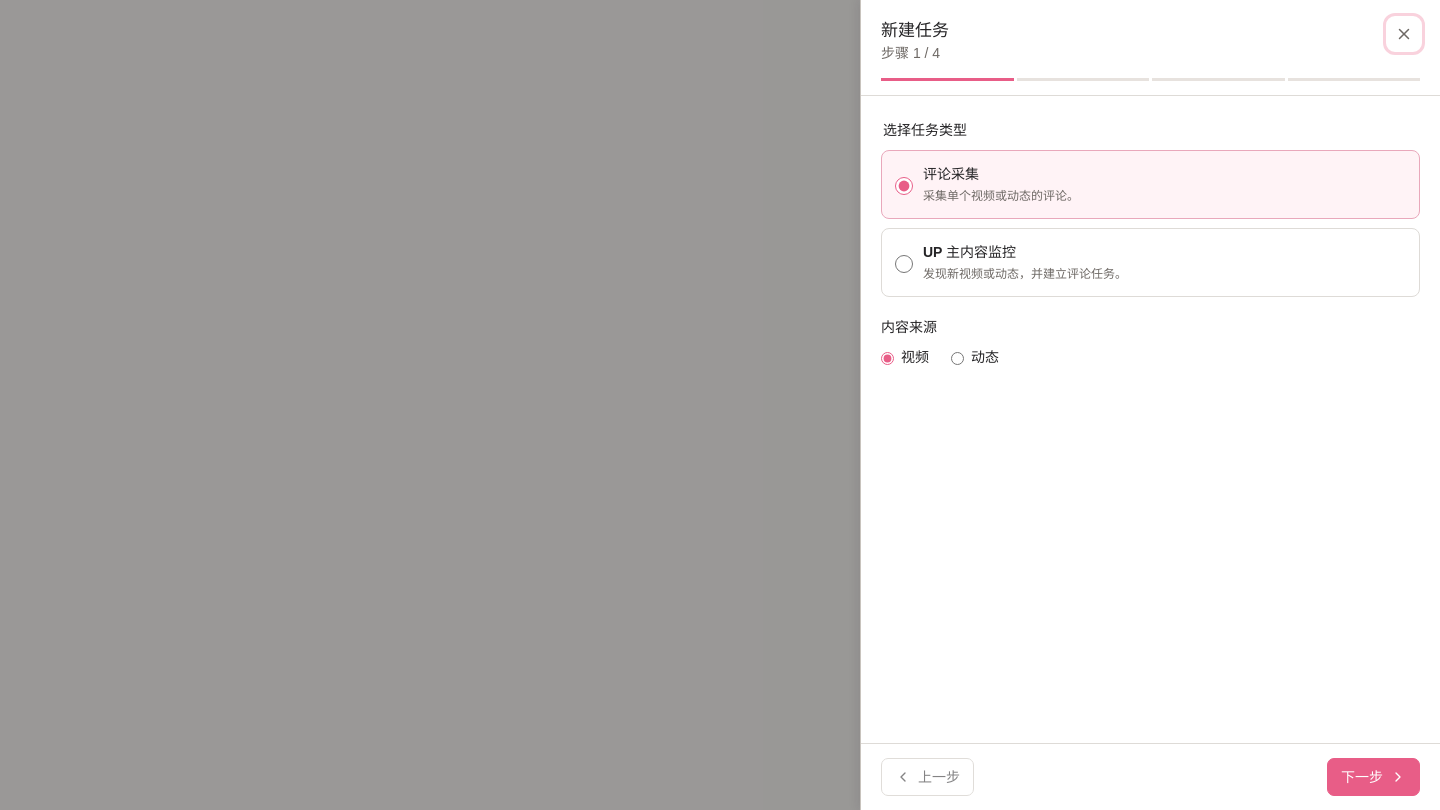
Test case: CreateTaskDrawer › 切换动态来源并保持默认持续增量采集
Click the radio button labelled "动态" at (958, 359), box [951,352,964,365]
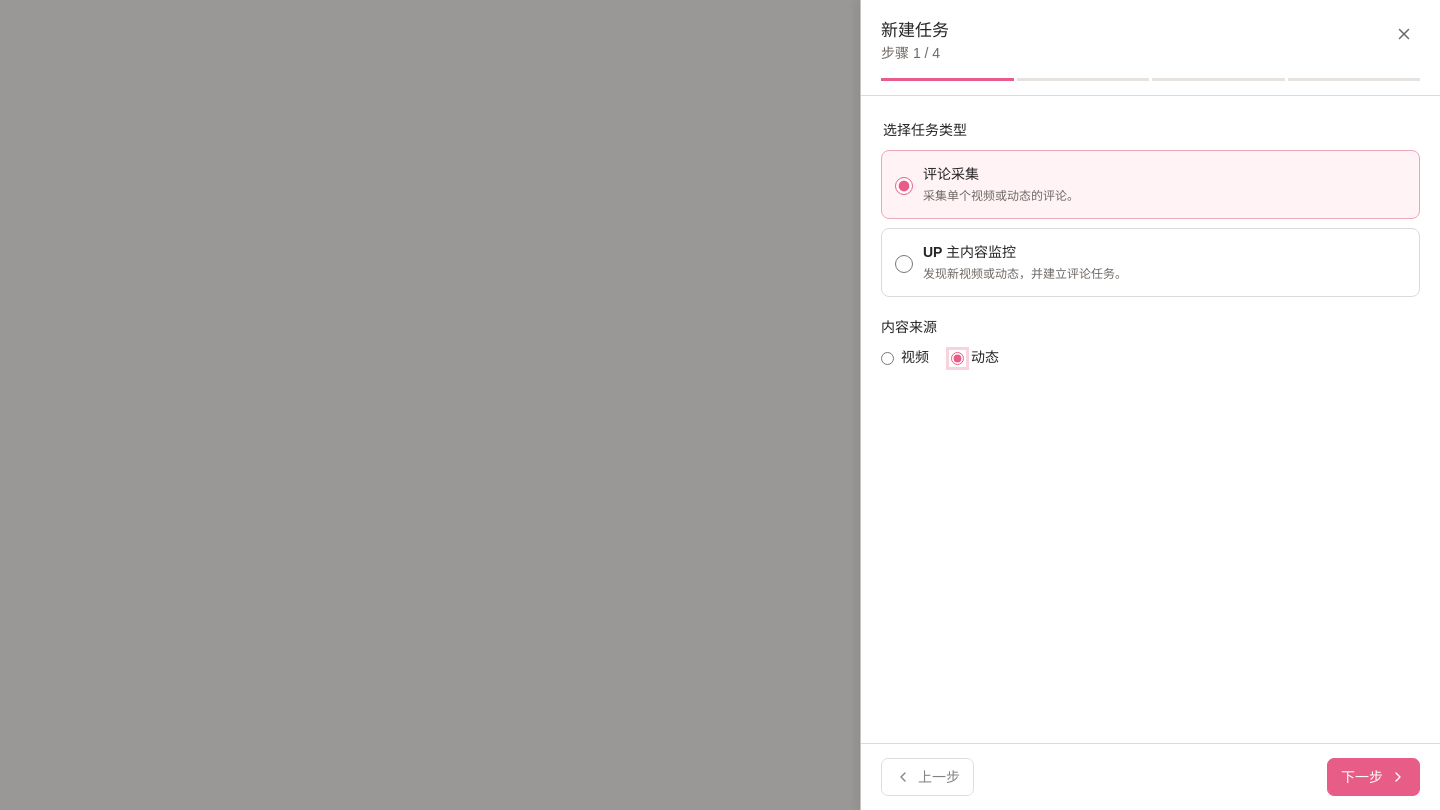
Click the button "下一步" at (1374, 777), box [1327,758,1420,796]
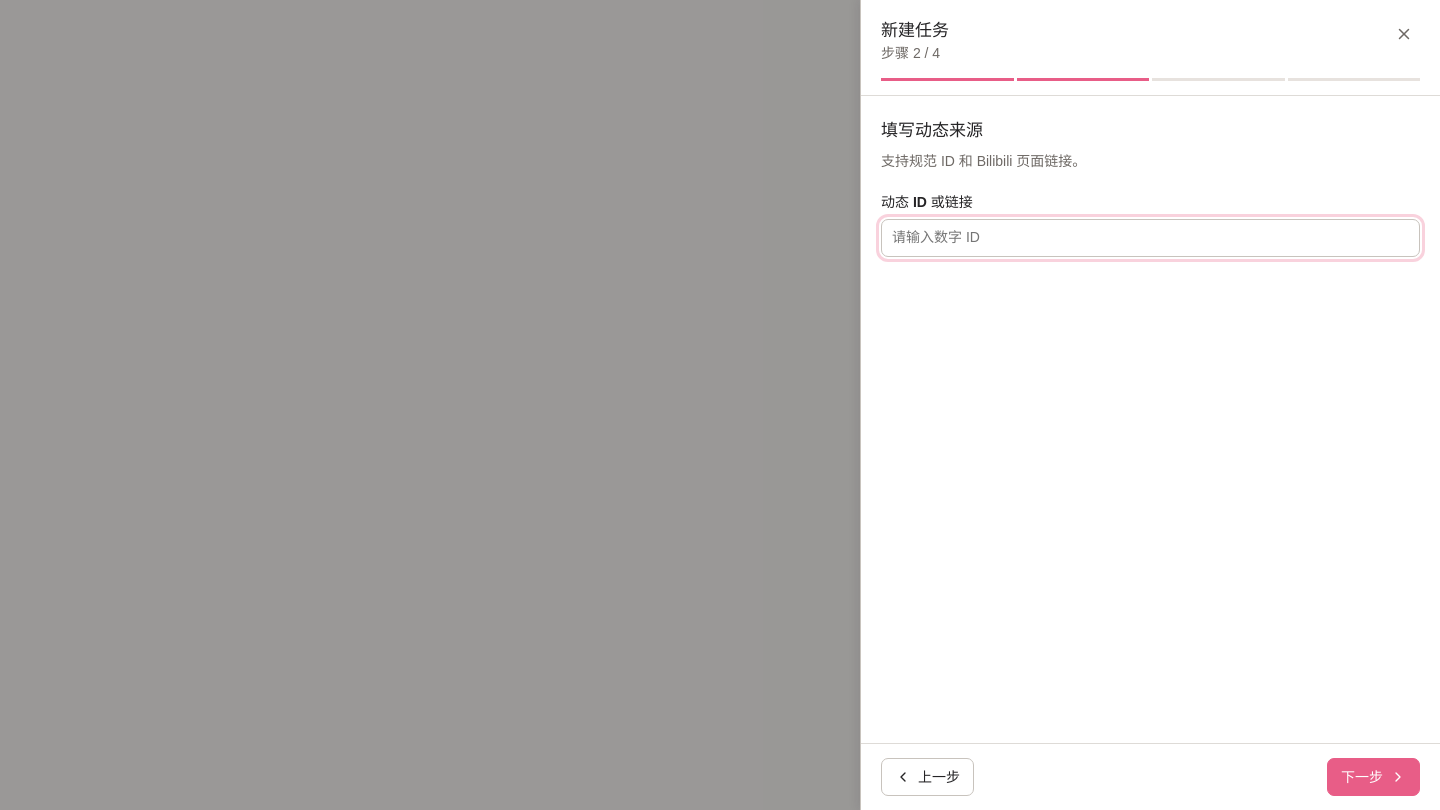
Result: the heading "填写动态来源" is shown at [881,121,983,140]
Type "987654321012345678" into the field labelled "动态 ID 或链接" at (1150, 238), box [881,219,1420,257]
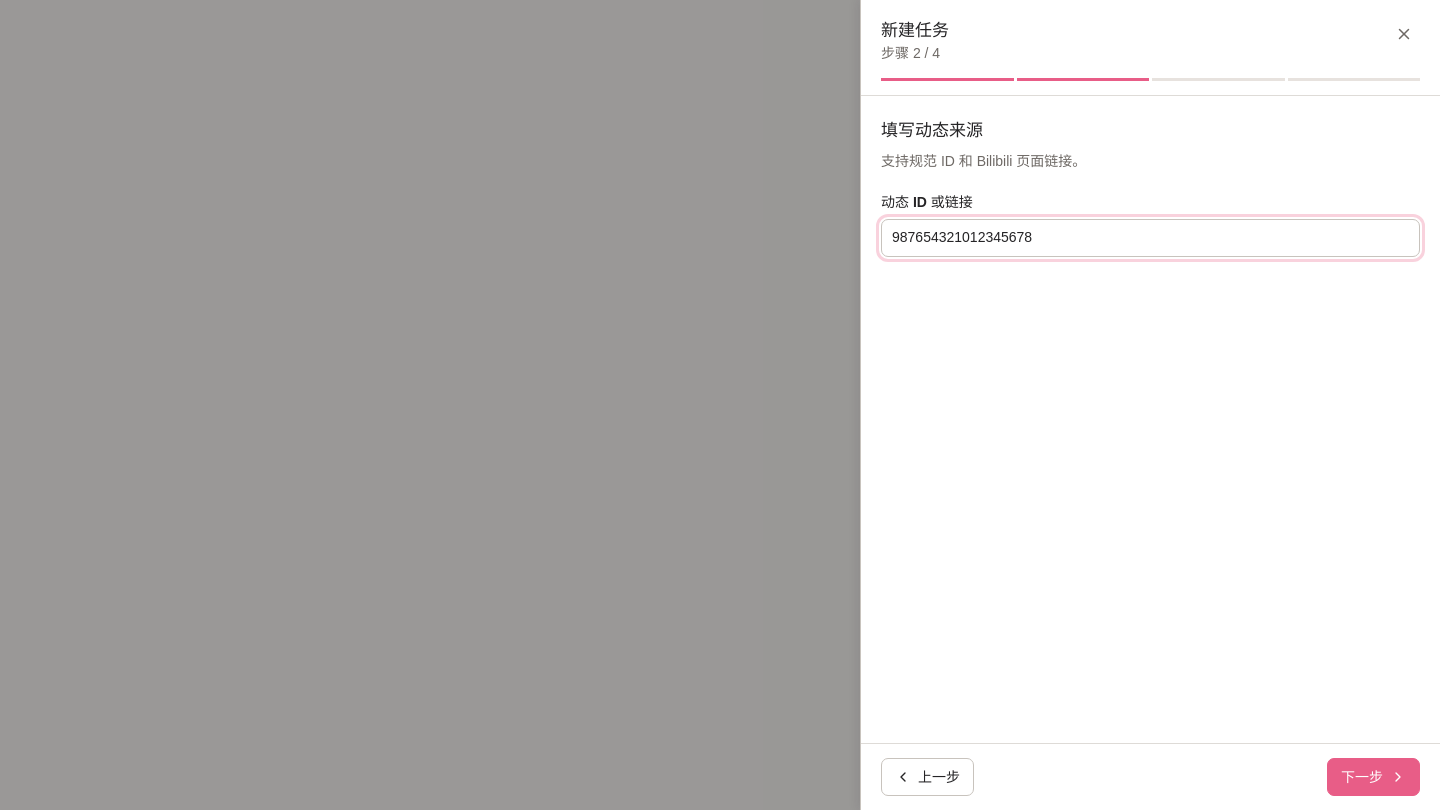
Click the button "下一步" at (1374, 777), box [1327,758,1420,796]
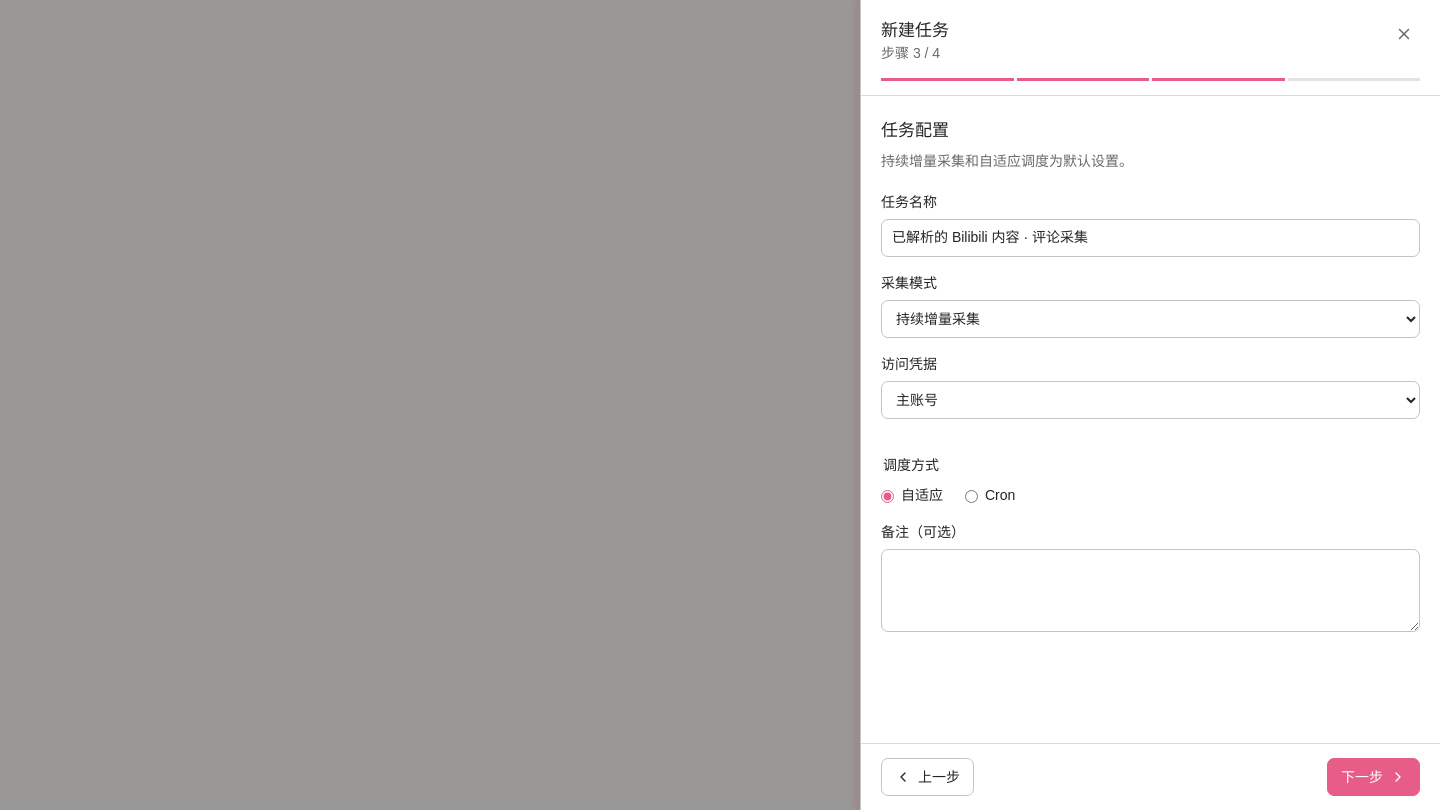
Result: the heading "任务配置" is shown at [881,121,949,140]
Result: the dropdown labelled "采集模式" shows "持续增量采集" at [881,300,1420,338]
Result: the field labelled "任务名称" is not empty at [881,219,1420,257]
